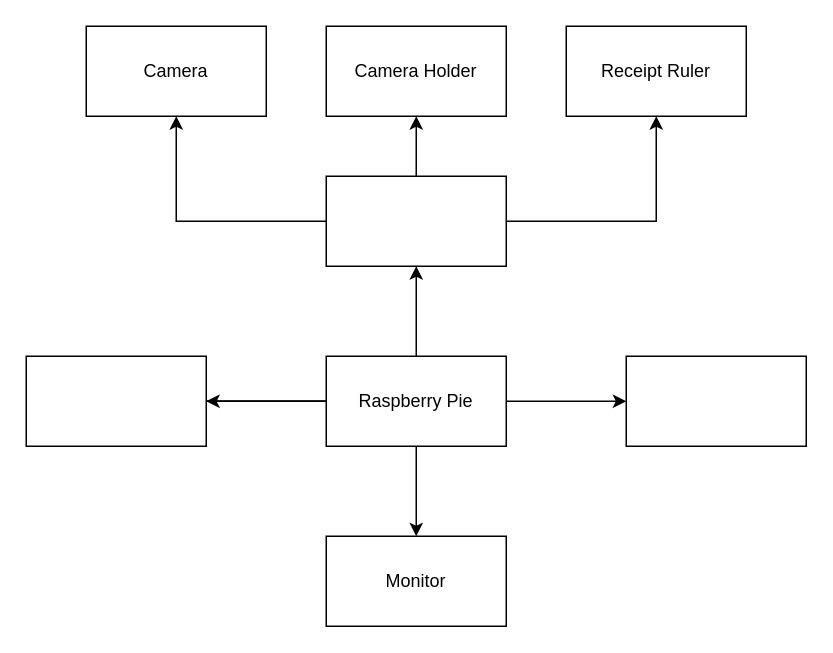
Image size: 833x653. Some labels were removed from this diagram. Each missing label, with the centre of its shape:
Camera Station: the point at 415,220
Keyboard: the point at 715,400
Mouse: the point at 115,400
